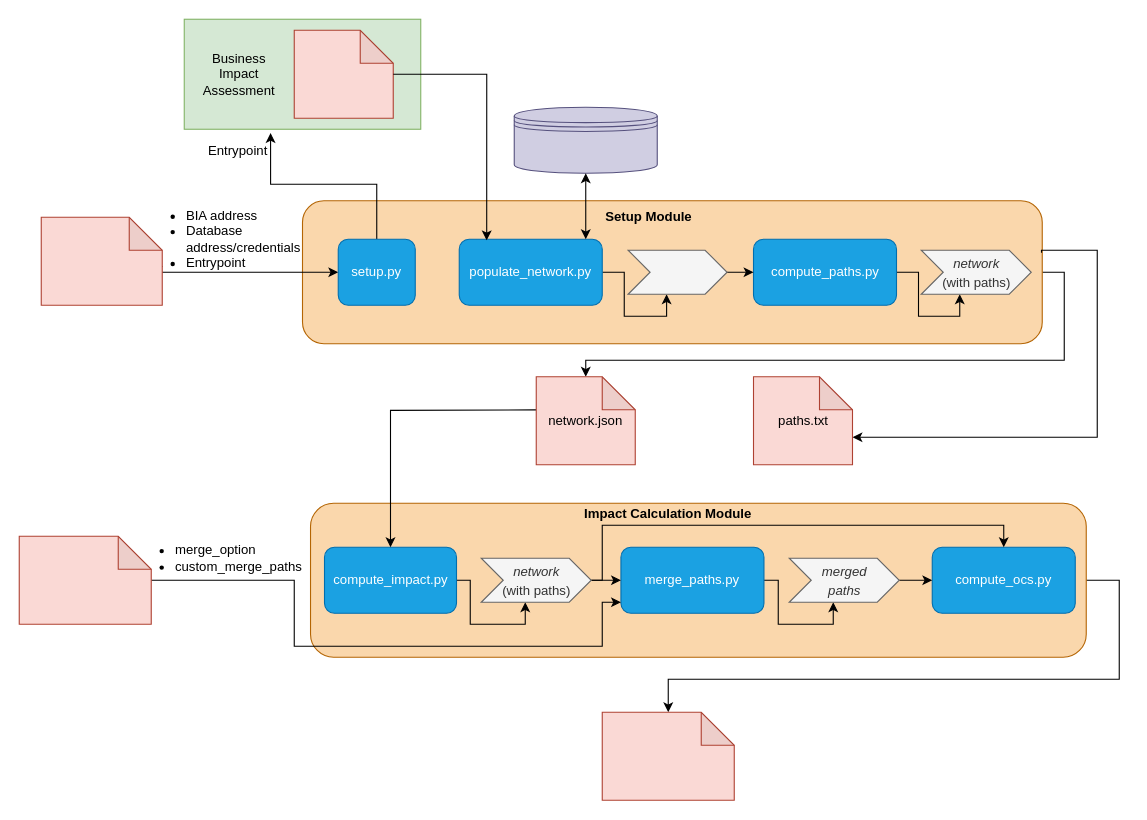
Image size: 1147x820. Some labels were removed from this diagram. Each missing label, with the centre of its shape:
"bia_output.json" belongs at (343,73).
"merge_options.json" belongs at (84,579).
"Neo4j Database" belongs at (585,139).
"network" belongs at (677,271).
"output_impact.json" belongs at (667,755).
"setup_config.json" belongs at (101,260).
